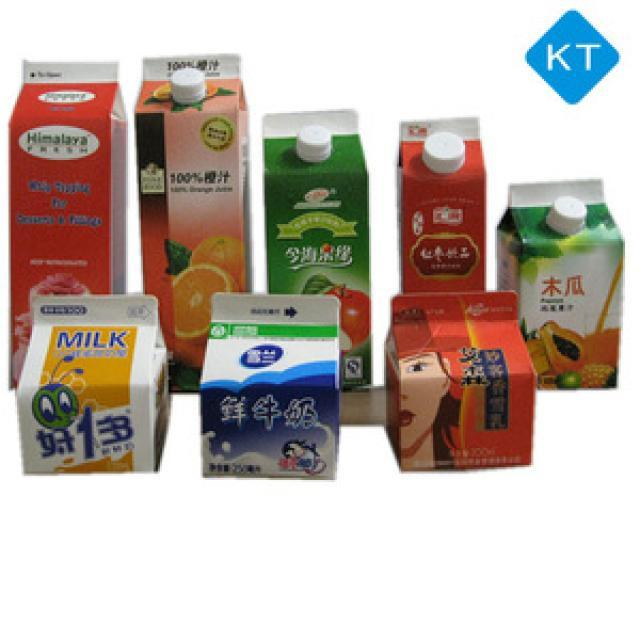Carton: (8, 39, 134, 379), (134, 43, 257, 344), (12, 287, 184, 488), (195, 286, 352, 494), (381, 287, 544, 487), (490, 171, 628, 406)
